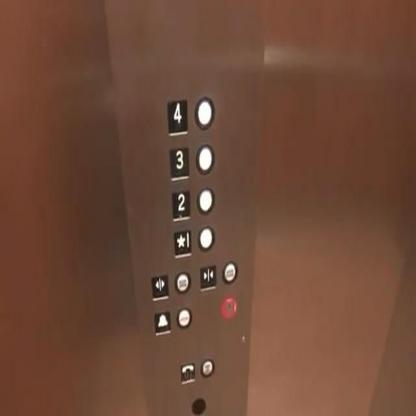2: (170, 187, 192, 222)
3: (168, 145, 189, 181)
4: (165, 97, 188, 136)
alarm: (151, 308, 173, 336)
call: (179, 360, 197, 388)
close: (196, 261, 218, 294)
empty: (193, 92, 217, 133), (193, 182, 216, 218), (196, 142, 214, 178), (197, 223, 215, 255)
keyhole: (218, 294, 237, 323)
open: (149, 270, 169, 305)
s1: (172, 226, 191, 258)
text_blur: (220, 256, 238, 288), (174, 270, 192, 298), (176, 303, 193, 331), (200, 356, 215, 382)
